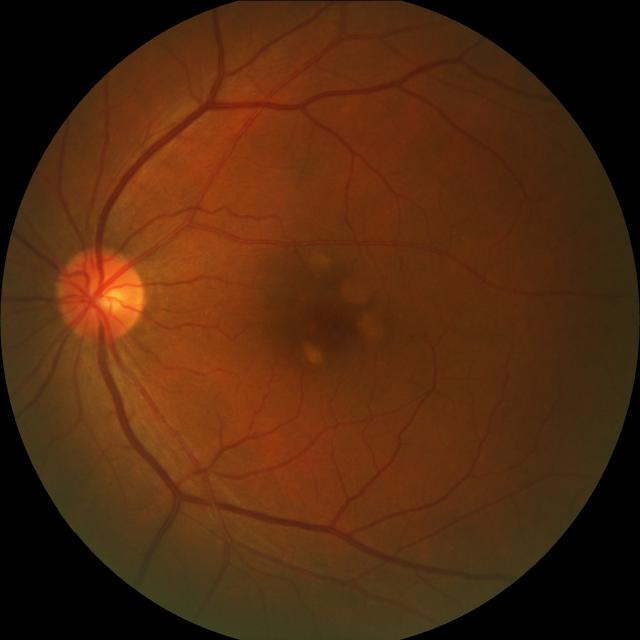OC: (84, 271, 125, 316)
OD: (59, 246, 146, 338)
